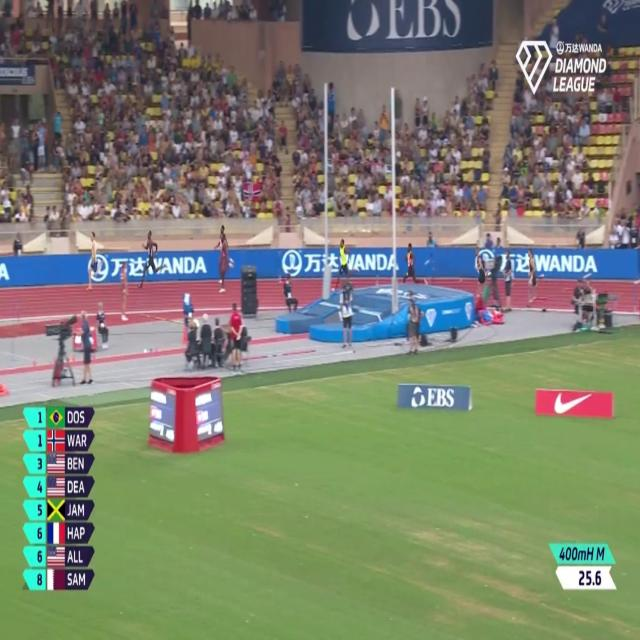athlete: (211, 216, 239, 302), (137, 226, 167, 294), (400, 238, 430, 288), (86, 223, 105, 294), (520, 244, 541, 305), (334, 232, 352, 294), (471, 239, 488, 303)
